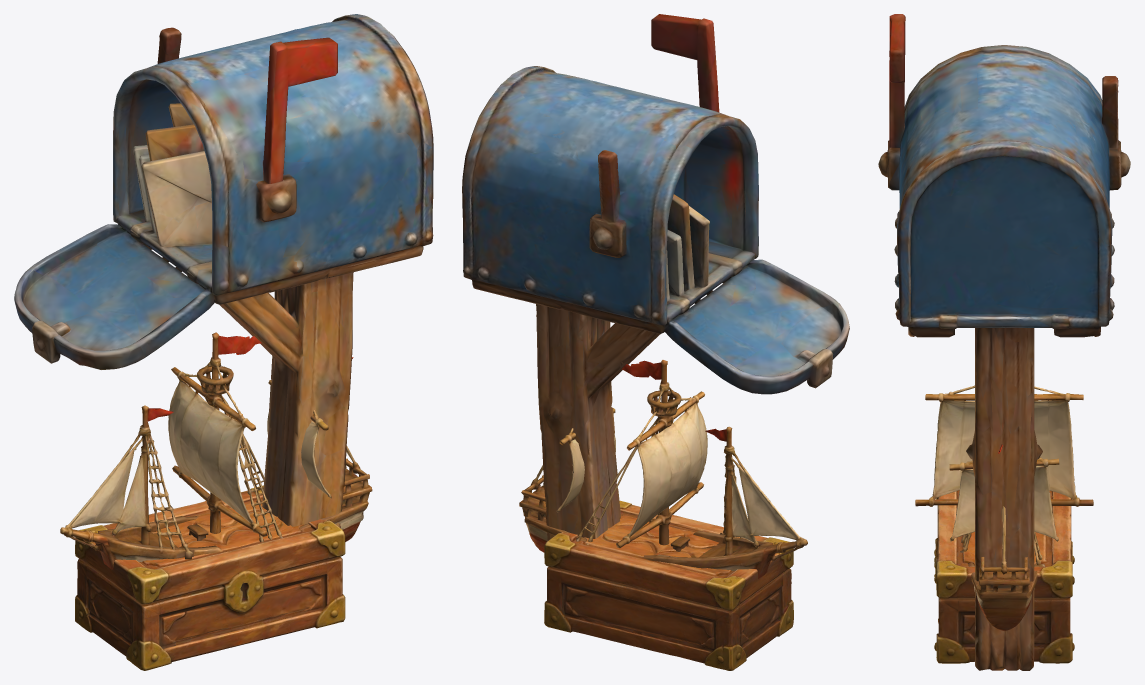
File: pack_story.glb
The picture shows the model from 3 angles, left to right: view 1: azimuth 30°, elevation 25°; view 2: azimuth 150°, elevation 25°; view 3: azimuth 270°, elevation 25°; orthographic projection. The views are drawn at different scales.
Parts seen in each view (by area): view 1: mailbox_luda, keepsake_box, ship_model; view 2: mailbox_luda, keepsake_box, ship_model; view 3: mailbox_luda, ship_model, keepsake_box.
Part boxes in pixels (<box>): mailbox_luda: <box>14,14,433,528</box>; keepsake_box: <box>75,485,345,670</box>; ship_model: <box>60,332,372,569</box>; mailbox_luda: <box>462,14,849,540</box>; keepsake_box: <box>544,500,793,670</box>; ship_model: <box>519,360,807,578</box>; mailbox_luda: <box>878,14,1130,670</box>; ship_model: <box>915,385,1093,630</box>; keepsake_box: <box>934,490,1074,663</box>.
Bounding box in the file's own units: 0.9985 × 1.7 × 0.6381.
3 materials, 3 textured.
